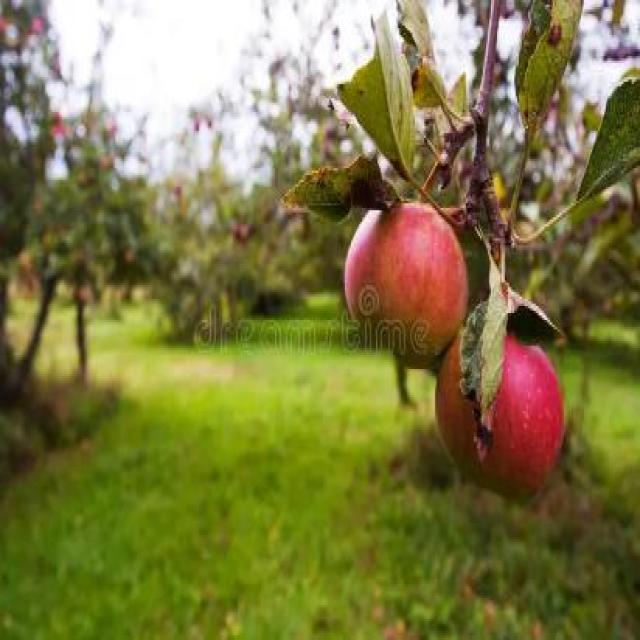fruit: (434, 306, 570, 502), (344, 202, 465, 365)
